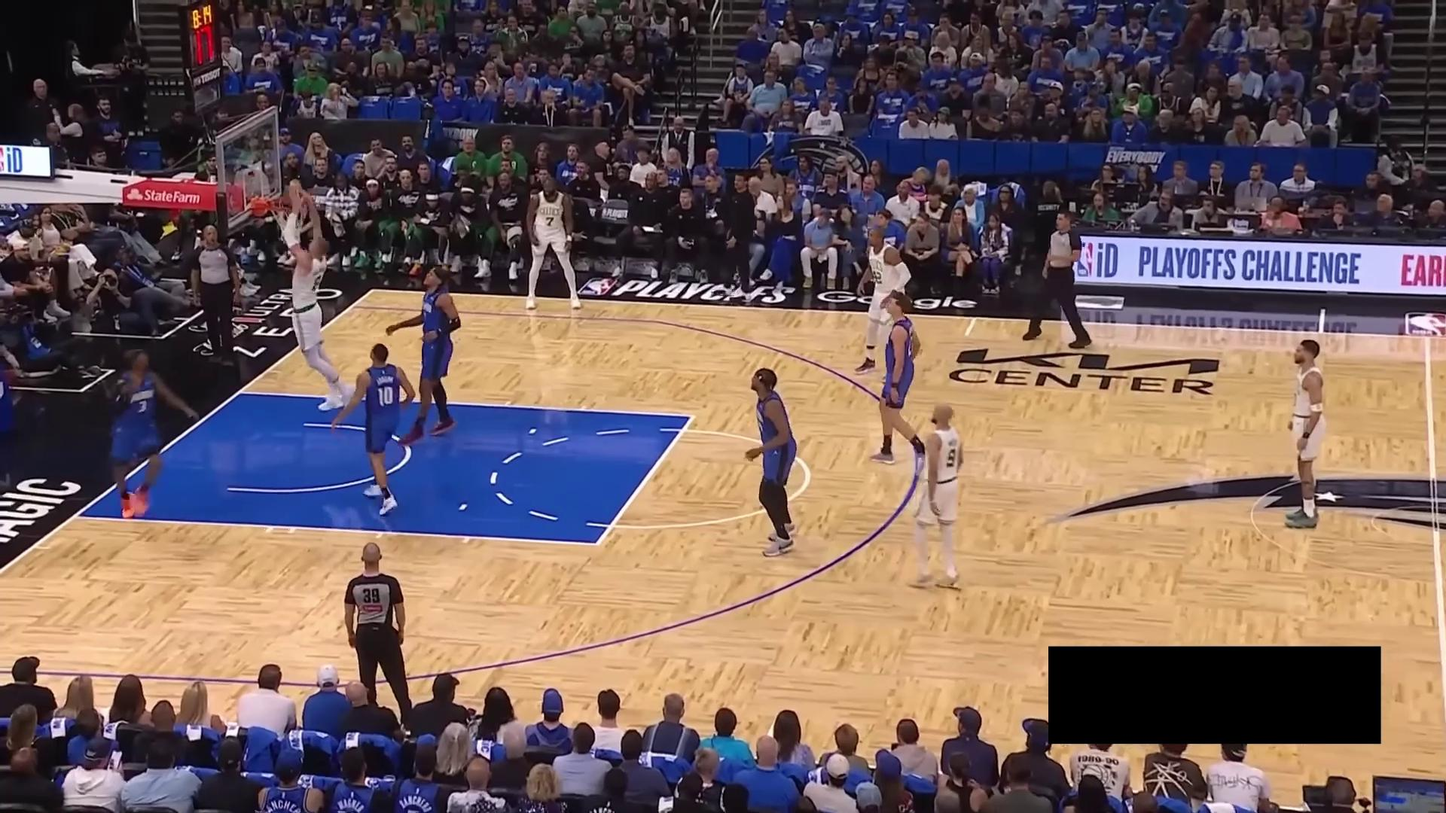ball: (281, 183, 304, 206)
number: (378, 384, 394, 408), (943, 448, 957, 467), (312, 273, 323, 292), (871, 269, 883, 284), (138, 398, 149, 414), (545, 217, 554, 226)
player: (101, 354, 198, 522), (386, 261, 469, 446), (331, 339, 416, 517), (903, 401, 967, 592), (743, 357, 802, 559), (1274, 337, 1335, 529), (866, 288, 927, 464), (518, 171, 584, 310), (854, 221, 915, 368)
player-layup-dunk: (277, 188, 361, 415)
referee: (341, 540, 413, 710), (1020, 208, 1099, 351), (183, 223, 241, 371)
rim: (269, 193, 314, 216)
